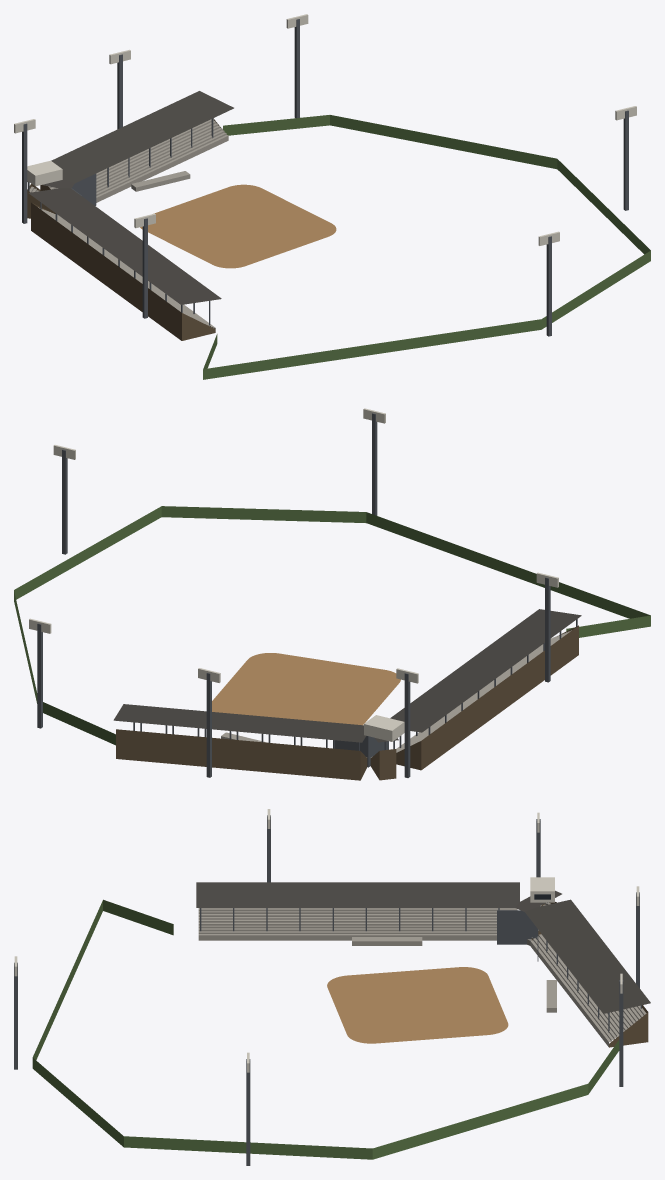
File: ray-winder-field.glb
3 renders of one model, top to bottom at view 1: azimuth 30°, elevation 25°; view 2: azimuth 150°, elevation 25°; view 3: azimuth 270°, elevation 25°, orthographic. The views are drawn at different scales.
Visible parts, largest first — view 1: ray_roof, ray_fence, ray_dirt, ray_conc, ray_wood, ray_steel, ray_press; view 2: ray_wood, ray_roof, ray_dirt, ray_fence, ray_steel, ray_press, ray_conc; view 3: ray_roof, ray_conc, ray_dirt, ray_fence, ray_steel, ray_press, ray_wood.
Part boxes in pixels (<box>): ray_roof: <box>27,91,233,304</box>; ray_fence: <box>203,115,650,379</box>; ray_dirt: <box>140,184,336,268</box>; ray_conc: <box>29,119,228,328</box>; ray_wood: <box>27,118,220,340</box>; ray_steel: <box>22,19,628,336</box>; ray_press: <box>14,14,636,245</box>; ray_wood: <box>116,625,578,780</box>; ray_roof: <box>113,609,581,742</box>; ray_dirt: <box>212,653,400,725</box>; ray_fence: <box>14,506,650,745</box>; ray_steel: <box>37,413,577,777</box>; ray_press: <box>29,408,558,741</box>; ray_conc: <box>221,630,571,757</box>; ray_roof: <box>196,882,650,1013</box>; ray_conc: <box>198,902,646,1046</box>; ray_dirt: <box>327,967,508,1043</box>; ray_fence: <box>32,899,619,1159</box>; ray_steel: <box>14,815,641,1165</box>; ray_press: <box>14,809,639,1072</box>; ray_wood: <box>532,902,648,1047</box>.
Size of the model in its own units: 148 by 28.5 by 154.
